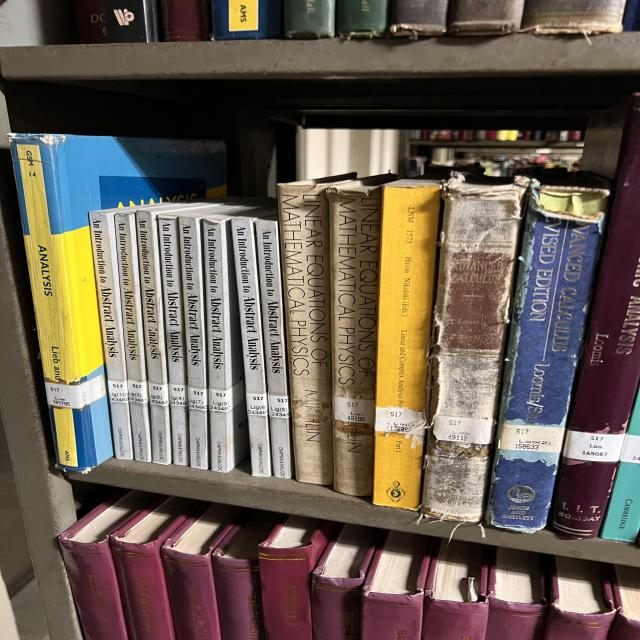Book: (8, 134, 225, 470), (487, 180, 610, 532), (552, 95, 640, 539), (422, 175, 528, 522), (278, 174, 357, 485), (373, 180, 442, 510), (327, 175, 397, 496), (135, 204, 203, 464), (178, 206, 227, 470), (203, 214, 248, 472), (88, 208, 133, 459), (232, 210, 273, 476), (255, 218, 293, 479), (115, 212, 152, 461), (158, 212, 188, 465)
Label: (45, 375, 107, 409), (563, 430, 625, 462), (498, 424, 565, 452), (433, 415, 493, 444), (375, 406, 425, 436), (333, 396, 375, 424), (208, 381, 245, 412), (295, 400, 332, 422), (268, 395, 290, 419), (127, 380, 148, 404), (148, 382, 168, 406), (247, 394, 268, 416), (188, 388, 208, 411), (108, 380, 128, 402), (168, 384, 187, 406)
